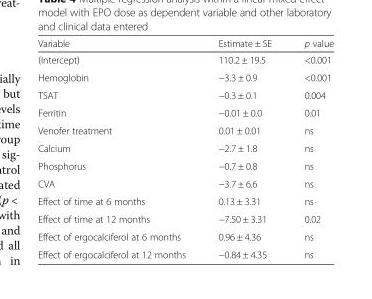table: (37, 37, 333, 259)
table column: (37, 37, 201, 259), (201, 37, 287, 259), (287, 37, 333, 259)
table column header: (37, 37, 333, 51)
table row: (37, 85, 333, 103), (37, 103, 333, 121), (37, 138, 333, 156), (37, 156, 333, 174), (37, 174, 333, 192), (37, 209, 333, 227), (37, 227, 333, 245), (37, 51, 333, 68), (37, 68, 333, 85), (37, 121, 333, 138), (37, 192, 333, 209), (37, 37, 333, 51), (37, 245, 333, 259)
